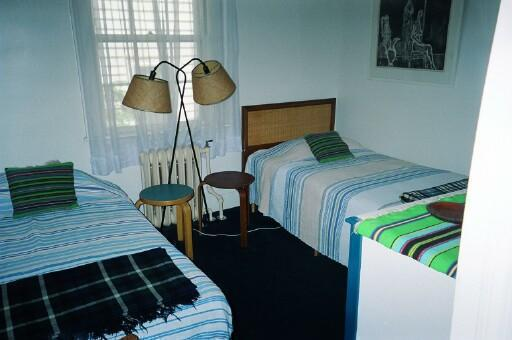Cama: (1, 159, 230, 339), (242, 98, 464, 279)
Ventana: (89, 2, 198, 128)
